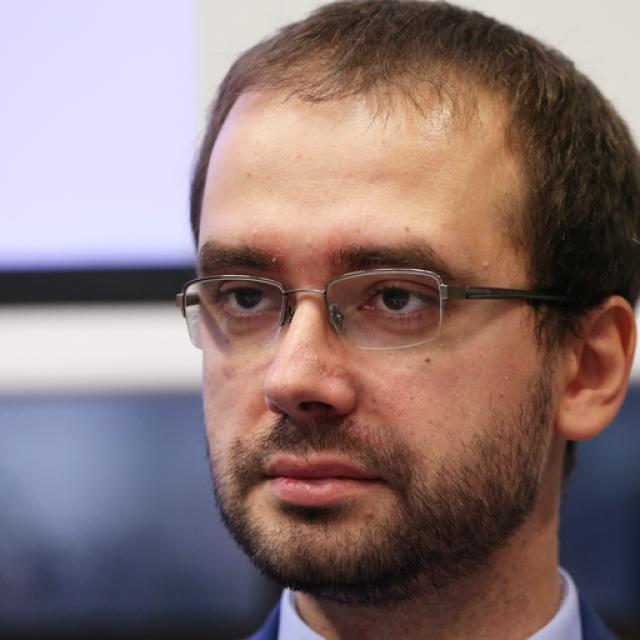Acne: (316, 357, 343, 379), (239, 223, 265, 243), (476, 258, 496, 274), (363, 504, 377, 524), (302, 233, 317, 251)
